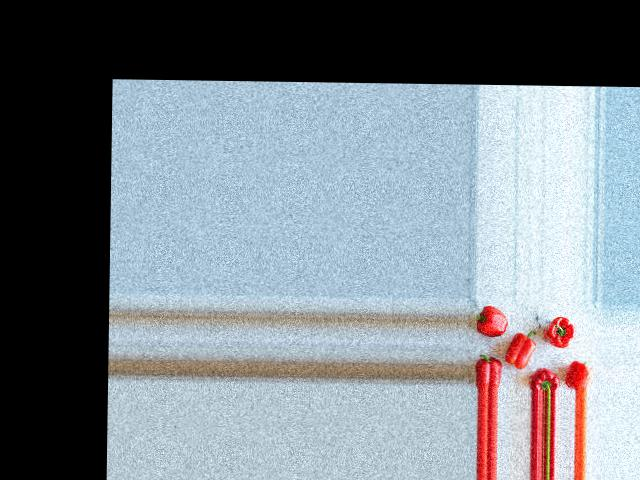bell_pepper: (528, 366, 559, 389)
